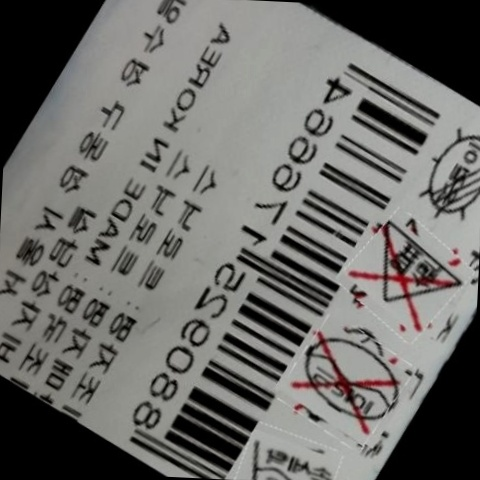DN_dry_clean: (300, 328, 401, 431)
hand_wash: (251, 433, 338, 480)
line_dry_in_shade: (422, 126, 480, 219)
non_chlorine_bleach: (364, 223, 463, 321)
